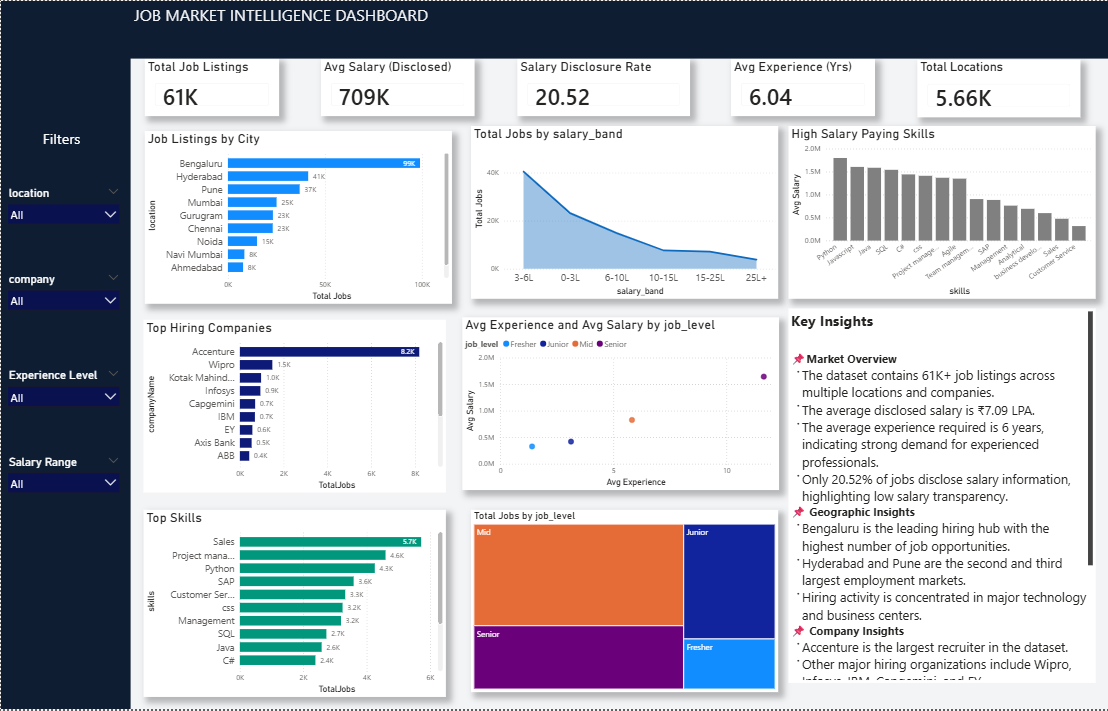

This screenshot's page, from the dashboard's own definition file:
{"tool":"powerbi","page":{"name":"City Analysis","canvas":[1850,1180],"ordinal":0},"visuals":[{"type":"cardVisual","title":"Total Job Listings","fields":{"Data":["Sheet1.TotalJobs"]},"box":[240,96,224,96],"z":0},{"type":"cardVisual","title":"Avg Salary (Disclosed)","fields":{"Data":["Sheet1.Avg Salary"]},"box":[533.7,96,256,96],"z":1000},{"type":"cardVisual","title":"Salary Disclosure Rate","fields":{"Data":["Sheet1.Salary Disclosure %"]},"box":[859.4,96,288,96],"z":2000},{"type":"cardVisual","title":"Avg Experience (Yrs)","fields":{"Data":["Sheet1.Avg Experience"]},"box":[1217.1,96,240,96],"z":3000},{"type":"clusteredBarChart","title":"Job Listings by City","fields":{"Y":["Sheet1.Total Jobs"],"Category":["Sheet1.location"]},"box":[238.8,215.8,512,288],"z":4000},{"type":"clusteredBarChart","title":"Top Skills","fields":{"Category":["Sheet1.skills"],"Y":["Sheet1.TotalJobs"]},"box":[237.7,847.8,504,312],"z":5000},{"type":"shape","box":[0,0,216,1200],"z":6000},{"type":"shape","box":[0,0,1872,80],"z":7000},{"type":"textbox","box":[216,0,672,48],"z":8000},{"type":"slicer","fields":{"Values":["Sheet1.location"]},"box":[0,304,208,80],"z":9000},{"type":"slicer","fields":{"Values":["Sheet1.minimumExperience"]},"box":[0,608,208,80],"z":10000},{"type":"slicer","fields":{"Values":["Sheet1.companyName"]},"box":[0,448,208,80],"z":11000},{"type":"slicer","fields":{"Values":["Sheet1.avg_salary"]},"box":[0,752,208,96],"z":12000},{"type":"textbox","box":[64,208,80,48],"z":13000},{"type":"cardVisual","title":"Total Locations","fields":{"Data":["Count(Sheet1.location)"]},"box":[1526.8,98.8,272,96],"z":14000},{"type":"clusteredBarChart","title":"Top Hiring Companies","fields":{"Category":["Sheet1.companyName"],"Y":["Sheet1.TotalJobs"]},"box":[237.7,531.8,504,288],"z":15000},{"type":"stackedAreaChart","fields":{"Y":["Sheet1.Total Jobs"],"Category":["Sheet1.salary_band"]},"box":[784,208,512,288],"z":16000},{"type":"scatterChart","fields":{"X":["Sheet1.Avg Experience"],"Y":["Sheet1.Avg Salary"],"Series":["Sheet1.job_level"]},"box":[768,528,528,288],"z":17000},{"type":"treemap","fields":{"Values":["Sheet1.Total Jobs"],"Group":["Sheet1.job_level"]},"box":[784,848,512,304],"z":18000},{"type":"columnChart","title":"High Salary Paying Skills","fields":{"Category":["Sheet1.skills"],"Y":["Sheet1.Avg Salary"]},"box":[1312,208,512,288],"z":19000},{"type":"textbox","box":[1312,512,512,624],"z":20000}]}

Visuals, with their boxes in screenshot pixels (x1, y1, x2, y2), scaled from the page's 1850x1180 canvas onto the 1108x711 screenshot:
"Total Job Listings" cardVisual: bbox(144, 58, 278, 116)
"Avg Salary (Disclosed)" cardVisual: bbox(320, 58, 473, 116)
"Salary Disclosure Rate" cardVisual: bbox(515, 58, 687, 116)
"Avg Experience (Yrs)" cardVisual: bbox(729, 58, 873, 116)
"Job Listings by City" clusteredBarChart: bbox(143, 130, 450, 304)
"Top Skills" clusteredBarChart: bbox(142, 511, 444, 699)
shape: bbox(0, 0, 129, 710)
shape: bbox(0, 0, 1107, 48)
textbox: bbox(129, 0, 532, 29)
slicer - Sheet1.location: bbox(0, 183, 125, 231)
slicer - Sheet1.minimumExperience: bbox(0, 366, 125, 415)
slicer - Sheet1.companyName: bbox(0, 270, 125, 318)
slicer - Sheet1.avg_salary: bbox(0, 453, 125, 511)
textbox: bbox(38, 125, 86, 154)
"Total Locations" cardVisual: bbox(914, 60, 1077, 117)
"Top Hiring Companies" clusteredBarChart: bbox(142, 320, 444, 494)
stackedAreaChart - Sheet1.Total Jobs x Sheet1.salary_band: bbox(470, 125, 776, 299)
scatterChart - Sheet1.Avg Experience x Sheet1.Avg Salary: bbox(460, 318, 776, 492)
treemap - Sheet1.Total Jobs x Sheet1.job_level: bbox(470, 511, 776, 694)
"High Salary Paying Skills" columnChart: bbox(786, 125, 1092, 299)
textbox: bbox(786, 309, 1092, 684)
